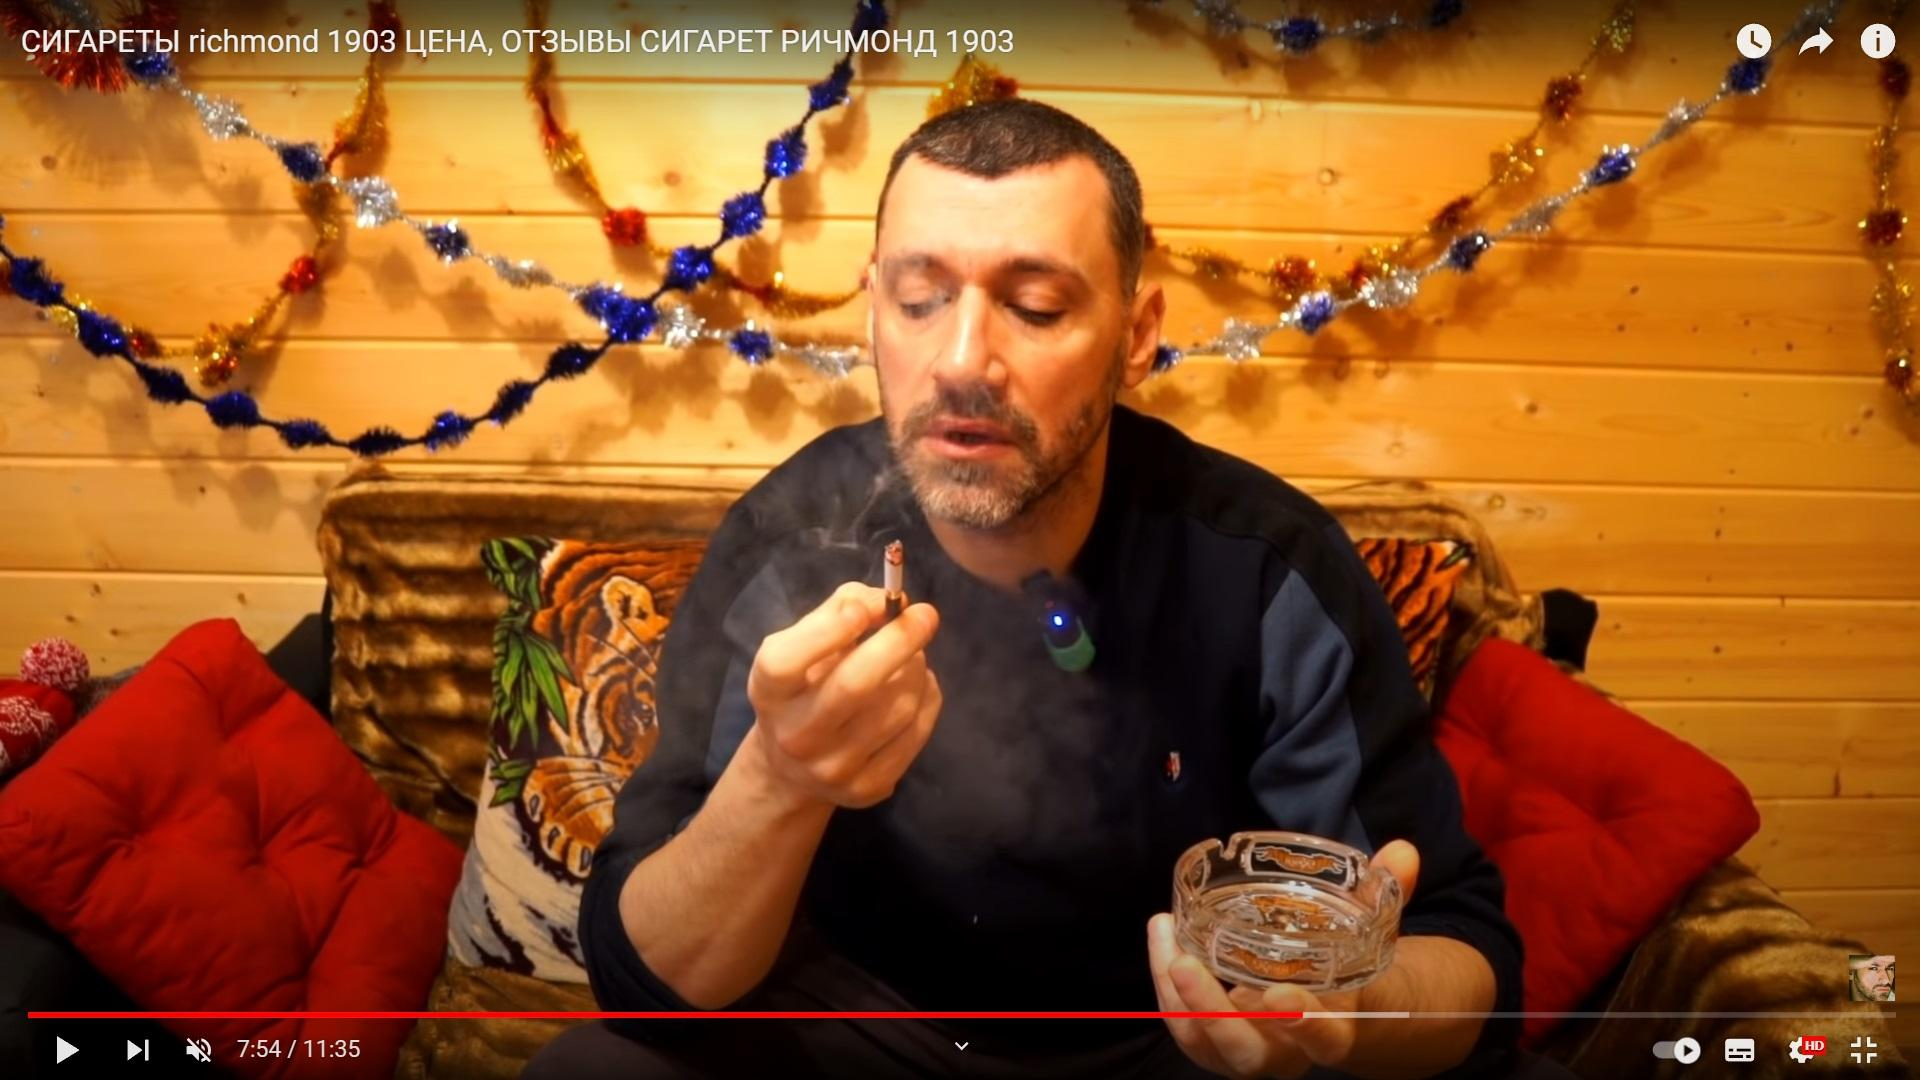cigarette: (884, 539, 905, 624)
